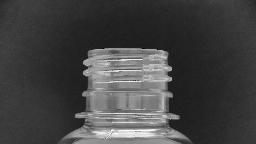No Cap: (70, 44, 184, 124)
